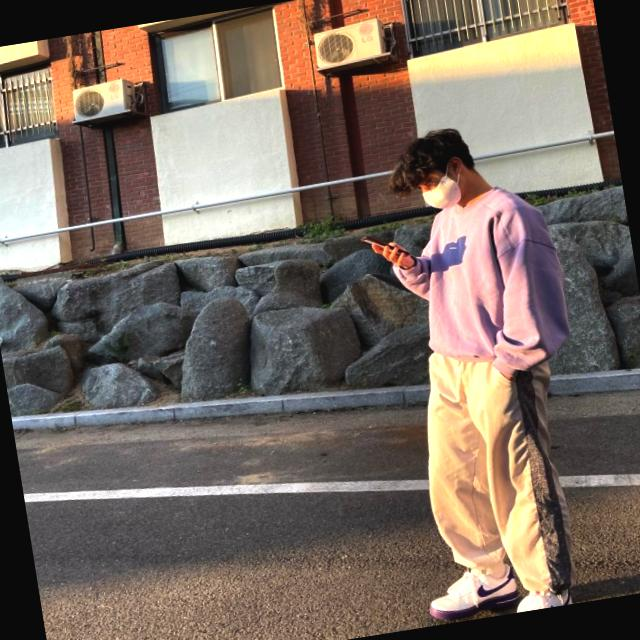cottonpants: (403, 328, 572, 609)
mtm: (383, 175, 580, 391)
